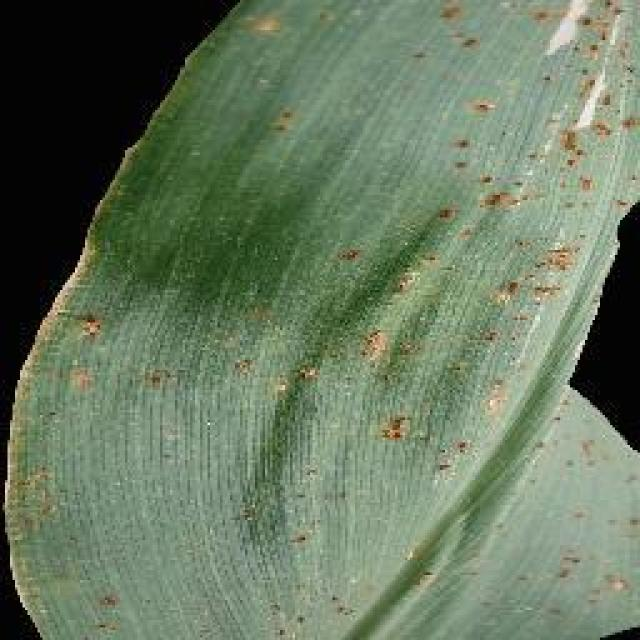Corn Common Rust: (54, 8, 488, 607)
